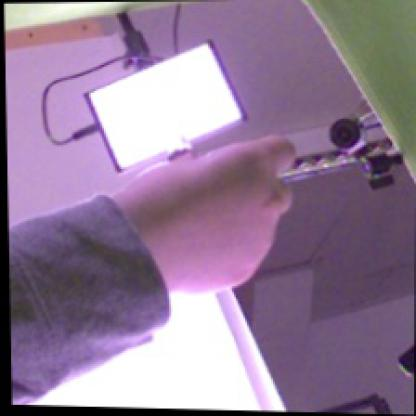Hand: (118, 133, 298, 294)
